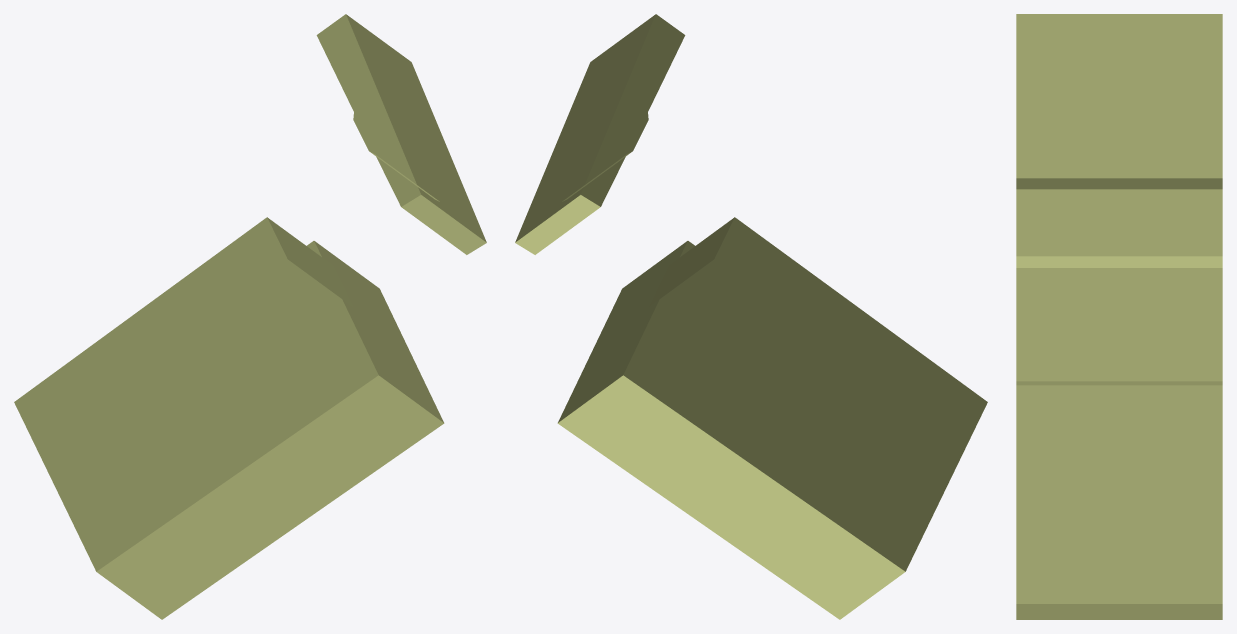
3 views of the same model, side by side, from view 1: azimuth 30°, elevation 25°; view 2: azimuth 150°, elevation 25°; view 3: azimuth 270°, elevation 25° (orthographic). The views are drawn at different scales.
Visible parts, largest first — view 1: 0_1_0_2_0_0_3_2_0; view 2: 0_1_0_2_0_0_3_2_0; view 3: 0_1_0_2_0_0_3_2_0.
Boxes of the visible parts, x1,y1,x2,y2 form: 0_1_0_2_0_0_3_2_0: [14, 14, 486, 619]; 0_1_0_2_0_0_3_2_0: [515, 14, 987, 619]; 0_1_0_2_0_0_3_2_0: [1016, 14, 1222, 619].
Bounding box in the file's own units: 32.19 × 37.54 × 9.
